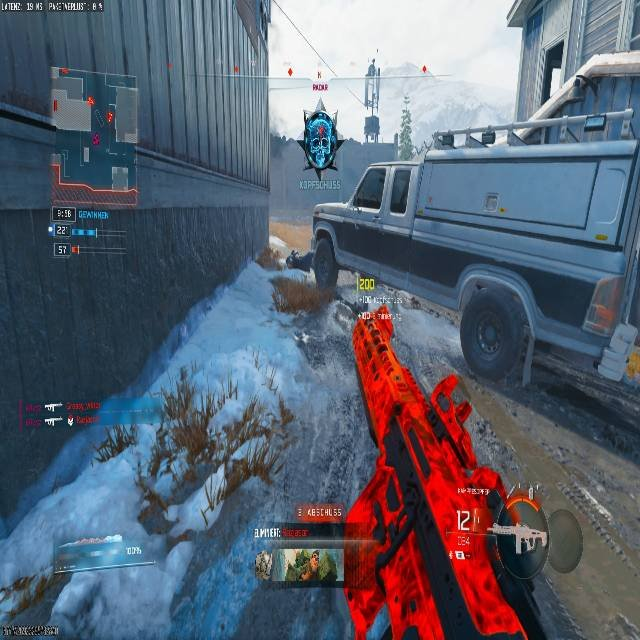player: (293, 108, 341, 171), (285, 249, 305, 271)
